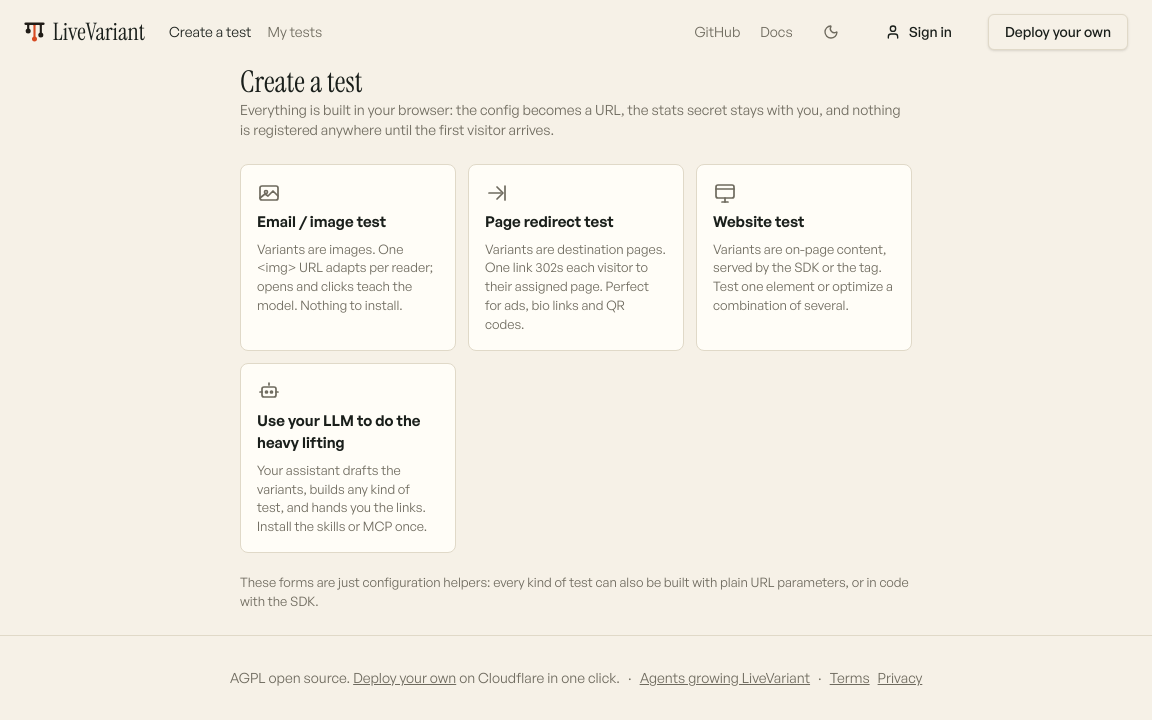
the LLM card's prefilled prompt › points key-less users at Settings instead
This screenshot has width=1152, height=720.
Click the button that starts with "Use your LLM to do the heavy lifting".
click(348, 458)  # box top-left (240, 363), bottom-right (456, 553)
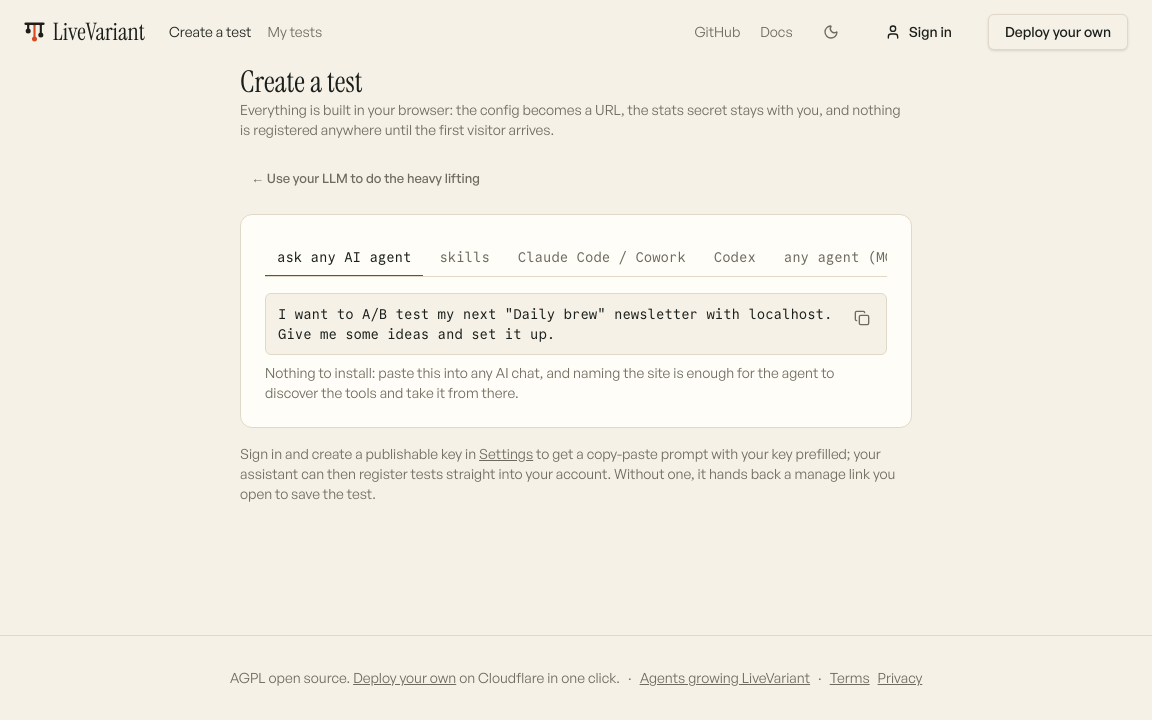
expect the link to "/settings" is shown: met, box top-left (479, 444), bottom-right (533, 462)
